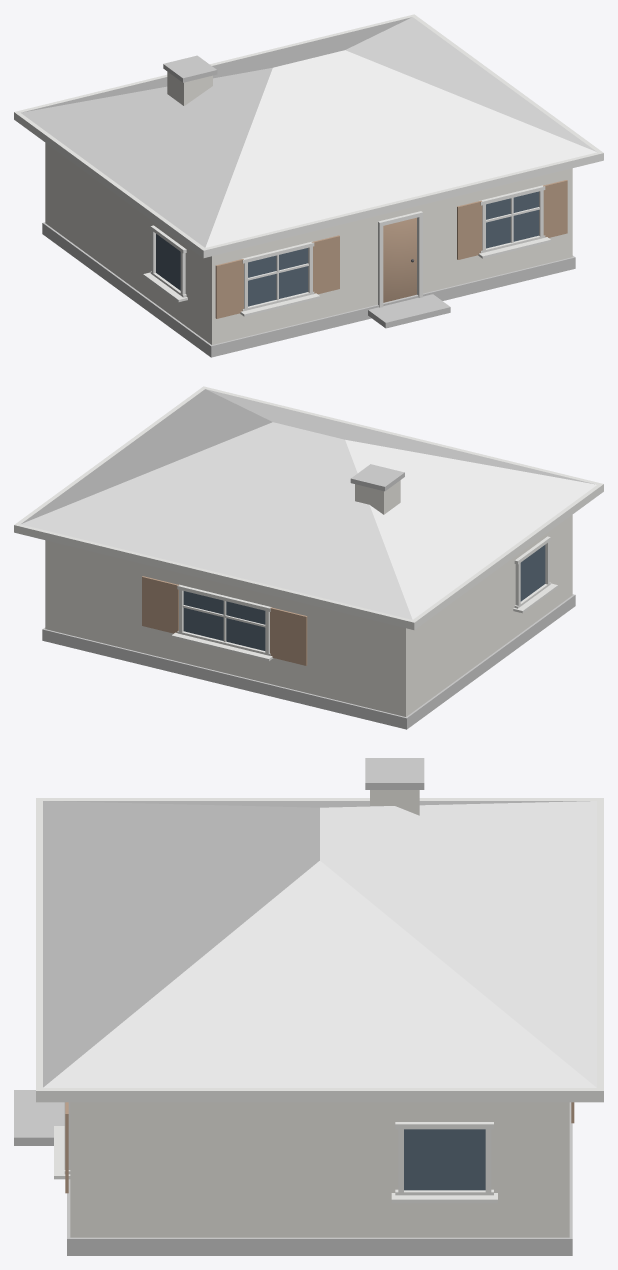
The model's file is house_b.glb.
3 views of the same model, one above another, from view 1: azimuth 30°, elevation 25°; view 2: azimuth 150°, elevation 25°; view 3: azimuth 270°, elevation 25° (orthographic). The views are drawn at different scales.
Visible parts, largest first — view 1: house_b_pbr_roof, house_b_pbr_brick, house_b_trim, house_b_pbr_concrete, house_b_pbr_wood, house_b_window_glass; view 2: house_b_pbr_roof, house_b_pbr_brick, house_b_trim, house_b_pbr_concrete, house_b_window_glass, house_b_pbr_wood; view 3: house_b_pbr_roof, house_b_pbr_brick, house_b_trim, house_b_pbr_concrete, house_b_window_glass.
Part boxes in pixels (left/top/right/bottom): house_b_pbr_roof: left=21, top=17, right=596, bottom=247; house_b_pbr_brick: left=45, top=71, right=572, bottom=344; house_b_trim: left=14, top=14, right=603, bottom=316; house_b_pbr_concrete: left=42, top=55, right=575, bottom=357; house_b_pbr_wood: left=215, top=180, right=567, bottom=318; house_b_window_glass: left=156, top=191, right=538, bottom=306; house_b_pbr_roof: left=21, top=389, right=596, bottom=619; house_b_pbr_brick: left=45, top=480, right=572, bottom=716; house_b_trim: left=14, top=386, right=603, bottom=661; house_b_pbr_concrete: left=42, top=464, right=575, bottom=729; house_b_window_glass: left=183, top=545, right=545, bottom=650; house_b_pbr_wood: left=142, top=576, right=307, bottom=665; house_b_pbr_roof: left=43, top=801, right=596, bottom=1087; house_b_pbr_brick: left=70, top=790, right=569, bottom=1237; house_b_trim: left=36, top=798, right=603, bottom=1203; house_b_pbr_concrete: left=14, top=758, right=572, bottom=1255; house_b_window_glass: left=404, top=1129, right=485, bottom=1190.
Size of the model in its own units: 11.1 by 5.1 by 9.45.
